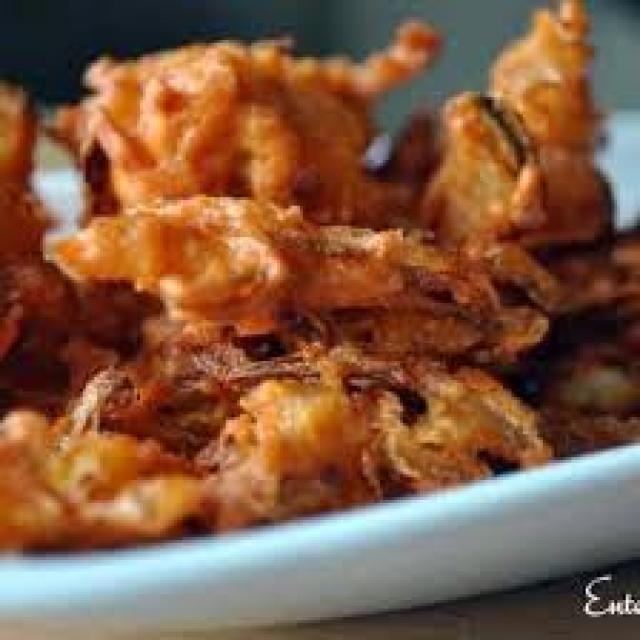BAJI: (2, 1, 637, 553)
